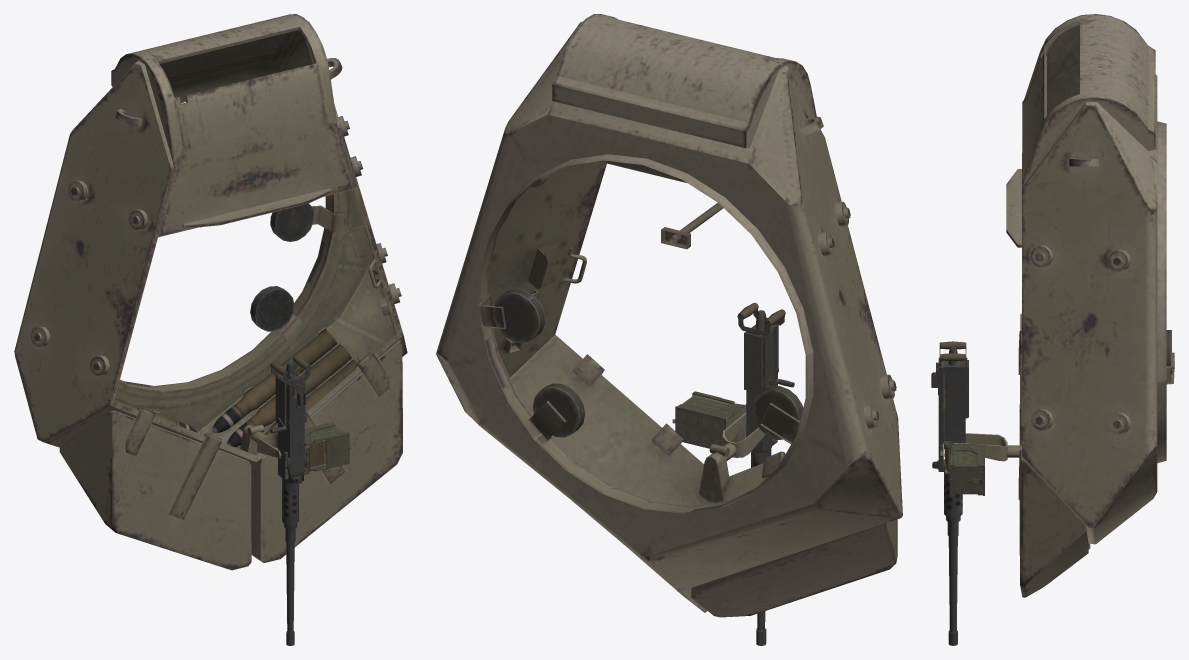
The model's file is Turret_01.glb.
3 views of the same model, side by side, from view 1: azimuth 30°, elevation 25°; view 2: azimuth 150°, elevation 25°; view 3: azimuth 270°, elevation 25° (orthographic). The views are drawn at different scales.
Parts seen in each view (by area): view 1: set_0_group_0; view 2: set_0_group_0; view 3: set_0_group_0.
Boxes of the visible parts, x1,y1,x2,y2 form: set_0_group_0: [14, 14, 407, 645]; set_0_group_0: [436, 14, 902, 645]; set_0_group_0: [931, 14, 1174, 645].
Bounding box in the file's own units: 2.26 × 3.27 × 1.23.
1 material, 1 textured.
